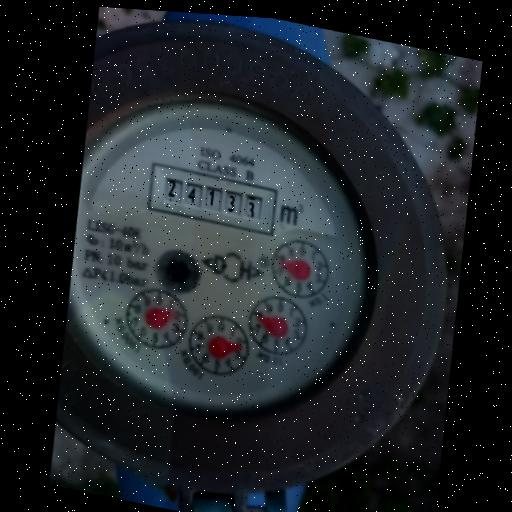1: (205, 187, 224, 212)
2: (164, 179, 183, 205)
3: (245, 195, 263, 220), (226, 192, 242, 216)
4: (185, 183, 204, 208)
border_water_meter_number: (145, 162, 280, 237)
